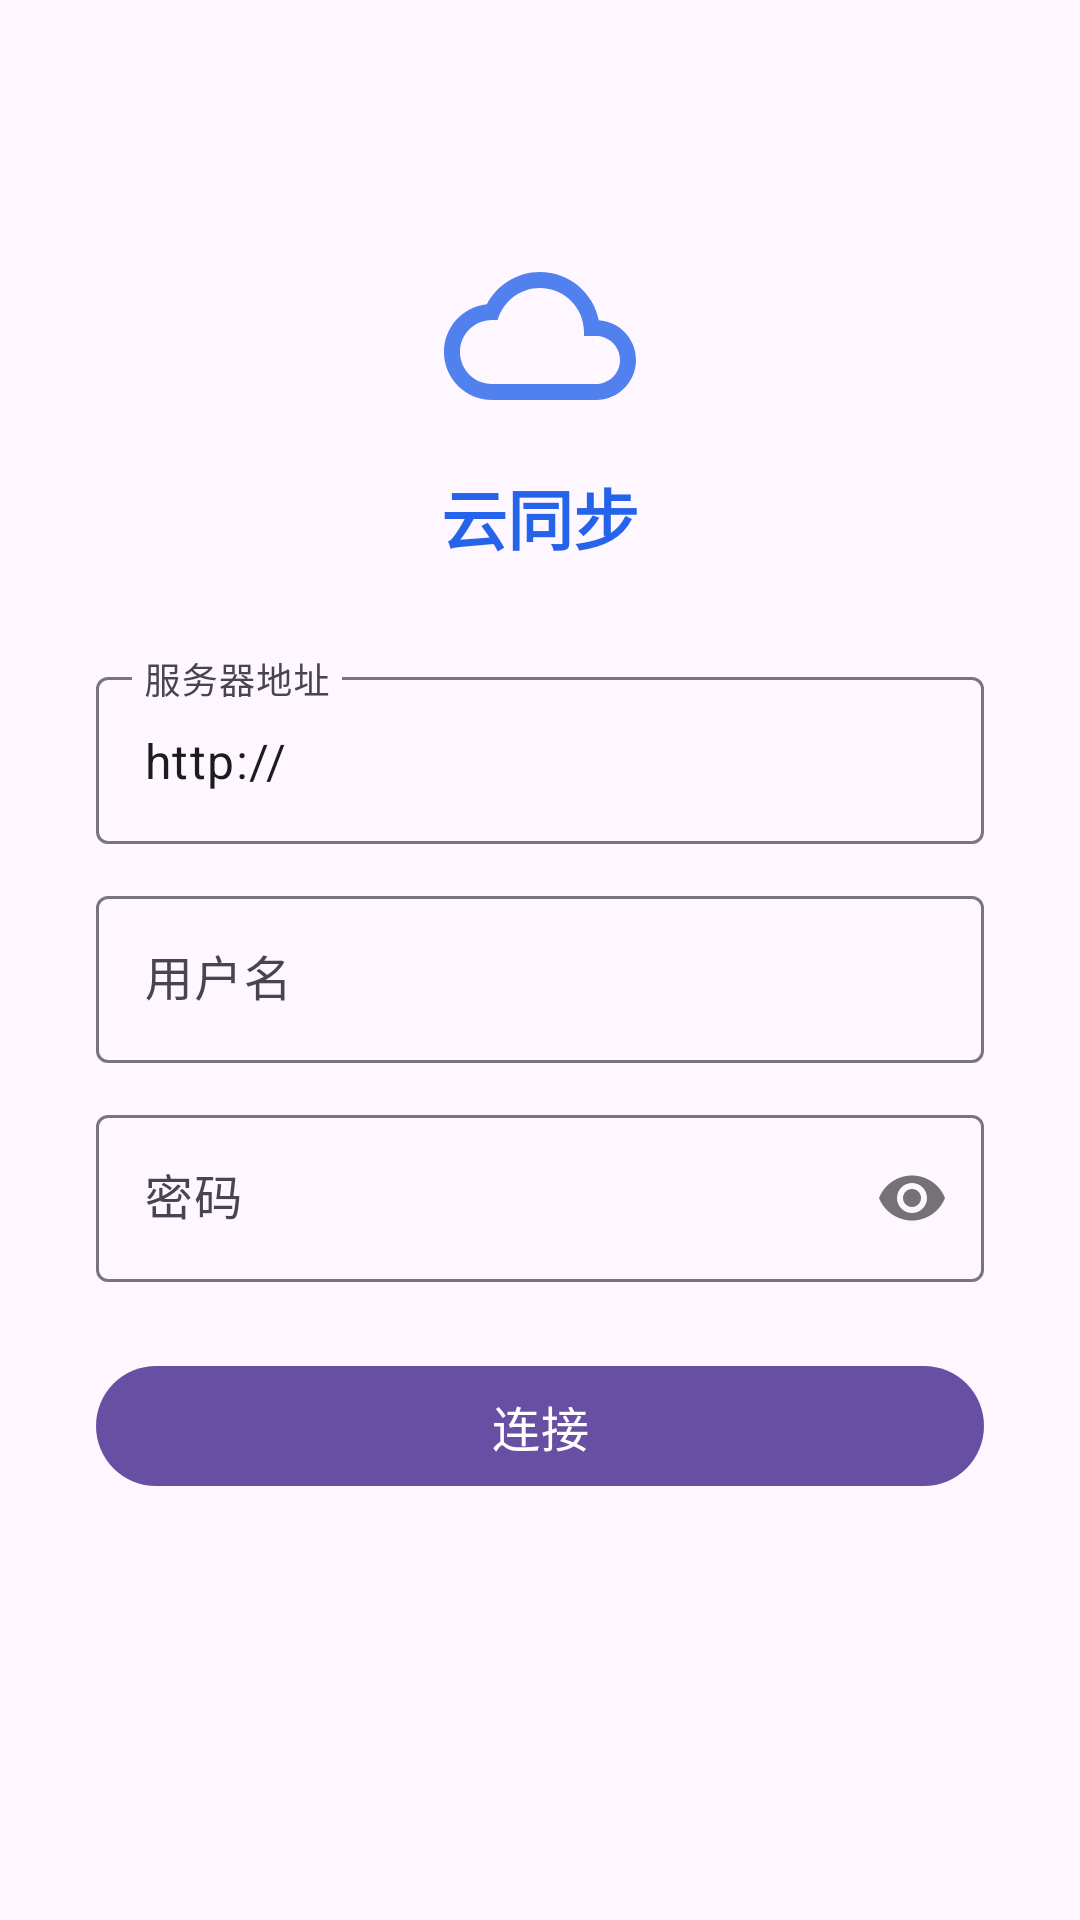

Where icons sit on this 1080px x 1920px app screen, as BBox(x1, y1, x2, y2):
cloud: BBox(444, 272, 636, 400)
